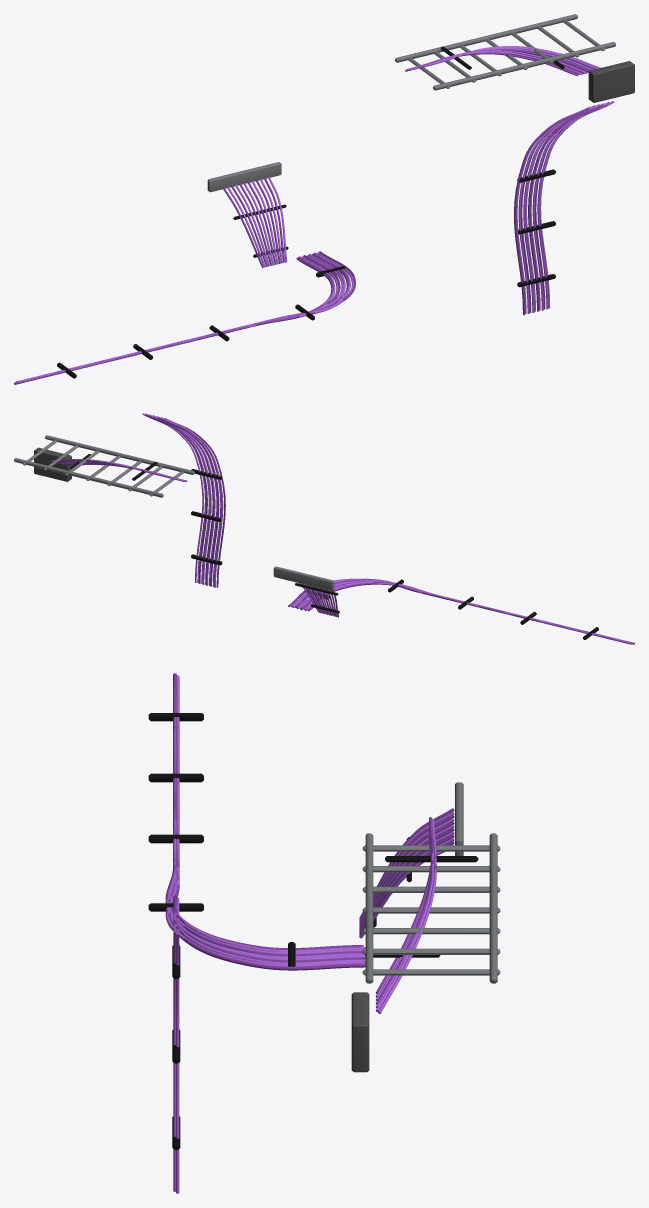
Rendered from PermanentCableProps.fbx.
3 renders of one model, top to bottom at view 1: azimuth 30°, elevation 25°; view 2: azimuth 150°, elevation 25°; view 3: azimuth 270°, elevation 25°, orthographic. The views are drawn at different scales.
Visible parts, largest first — view 1: TraySweep_PassThrough_Trim, CableTraySweep_LeftRail, PatchRearFanout_PatchPanel_Back, CableTraySweep_RightRail, VerticalRiserBundle_Cable_01, VerticalRiserBundle_Cable_11, VerticalRiserBundle_Cable_05, VerticalRiserBundle_Cable_03, VerticalRiserBundle_Cable_07, VerticalRiserBundle_Cable_09, StraightBundle_2m_Cable_01; view 2: TraySweep_PassThrough_Trim, PatchRearFanout_PatchPanel_Back, CableTraySweep_RightRail, CableTraySweep_LeftRail, VerticalRiserBundle_Cable_02, VerticalRiserBundle_Cable_06, VerticalRiserBundle_Cable_01, VerticalRiserBundle_Cable_04, VerticalRiserBundle_Cable_08, VerticalRiserBundle_Cable_10, VerticalRiserBundle_Cable_12; view 3: TraySweep_PassThrough_Trim, CableTraySweep_LeftRail, CableTraySweep_RightRail, Bend90Bundle_Cable_10, VerticalRiserBundle_Cable_12, CableTraySweep_Crossbar_07, CableTraySweep_Crossbar_06, CableTraySweep_Crossbar_05, CableTraySweep_Crossbar_01, CableTraySweep_Crossbar_02, CableTraySweep_Crossbar_03, CableTraySweep_Crossbar_04.
Part boxes in pixels (box(x1,y1,x2,y2)): TraySweep_PassThrough_Trim: box(588, 61, 634, 102); CableTraySweep_LeftRail: box(433, 42, 615, 90); PatchRearFanout_PatchPanel_Back: box(207, 162, 281, 192); CableTraySweep_RightRail: box(395, 14, 577, 62); VerticalRiserBundle_Cable_01: box(514, 107, 588, 315); VerticalRiserBundle_Cable_11: box(537, 102, 612, 309); VerticalRiserBundle_Cable_05: box(523, 105, 598, 312); VerticalRiserBundle_Cable_03: box(518, 106, 593, 313); VerticalRiserBundle_Cable_07: box(528, 104, 603, 311); VerticalRiserBundle_Cable_09: box(532, 103, 607, 310); StraightBundle_2m_Cable_01: box(14, 326, 249, 384); TraySweep_PassThrough_Trim: box(34, 447, 71, 481); PatchRearFanout_PatchPanel_Back: box(273, 566, 334, 591); CableTraySweep_RightRail: box(14, 458, 163, 497); CableTraySweep_LeftRail: box(45, 435, 194, 474); VerticalRiserBundle_Cable_02: box(162, 418, 223, 587); VerticalRiserBundle_Cable_06: box(154, 416, 215, 585); VerticalRiserBundle_Cable_01: box(164, 418, 225, 587); VerticalRiserBundle_Cable_04: box(158, 417, 219, 586); VerticalRiserBundle_Cable_08: box(150, 415, 211, 584); VerticalRiserBundle_Cable_10: box(146, 414, 207, 583); VerticalRiserBundle_Cable_12: box(142, 413, 203, 582); TraySweep_PassThrough_Trim: box(351, 992, 369, 1072); CableTraySweep_LeftRail: box(365, 833, 373, 983); CableTraySweep_RightRail: box(489, 833, 497, 983); Bend90Bundle_Cable_10: box(169, 884, 365, 970); VerticalRiserBundle_Cable_12: box(176, 929, 179, 1193); CableTraySweep_Crossbar_07: box(362, 969, 500, 975); CableTraySweep_Crossbar_06: box(362, 948, 500, 954); CableTraySweep_Crossbar_05: box(362, 928, 500, 934); CableTraySweep_Crossbar_01: box(362, 845, 500, 851); CableTraySweep_Crossbar_02: box(362, 866, 500, 872); CableTraySweep_Crossbar_03: box(362, 886, 500, 892); CableTraySweep_Crossbar_04: box(362, 907, 500, 913).
Bounding box in the file's own units: 575 × 162 × 158.
